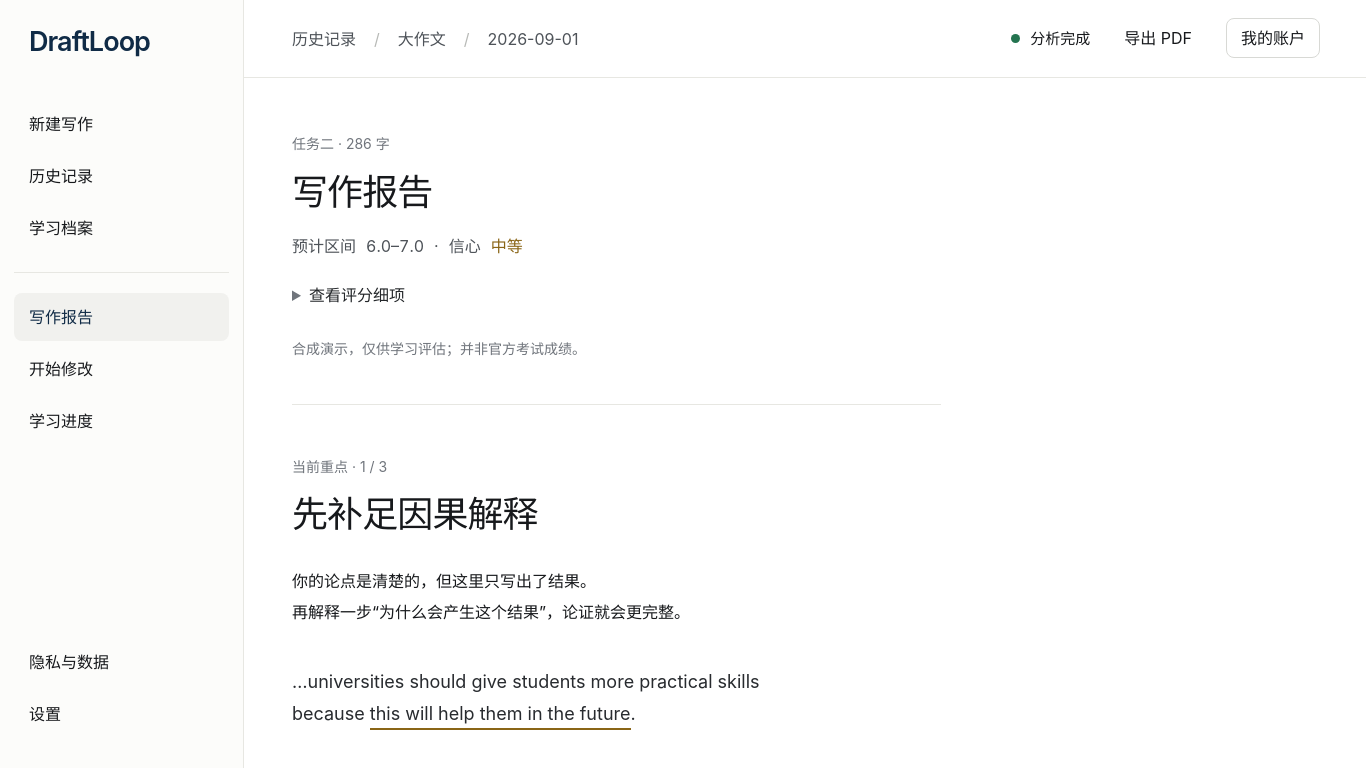
Test: DraftLoop composition › delivers the independently authorized export artifact without printing the page
Click the button "导出 PDF": [1158, 38] box left=1124, top=16, right=1192, bottom=61
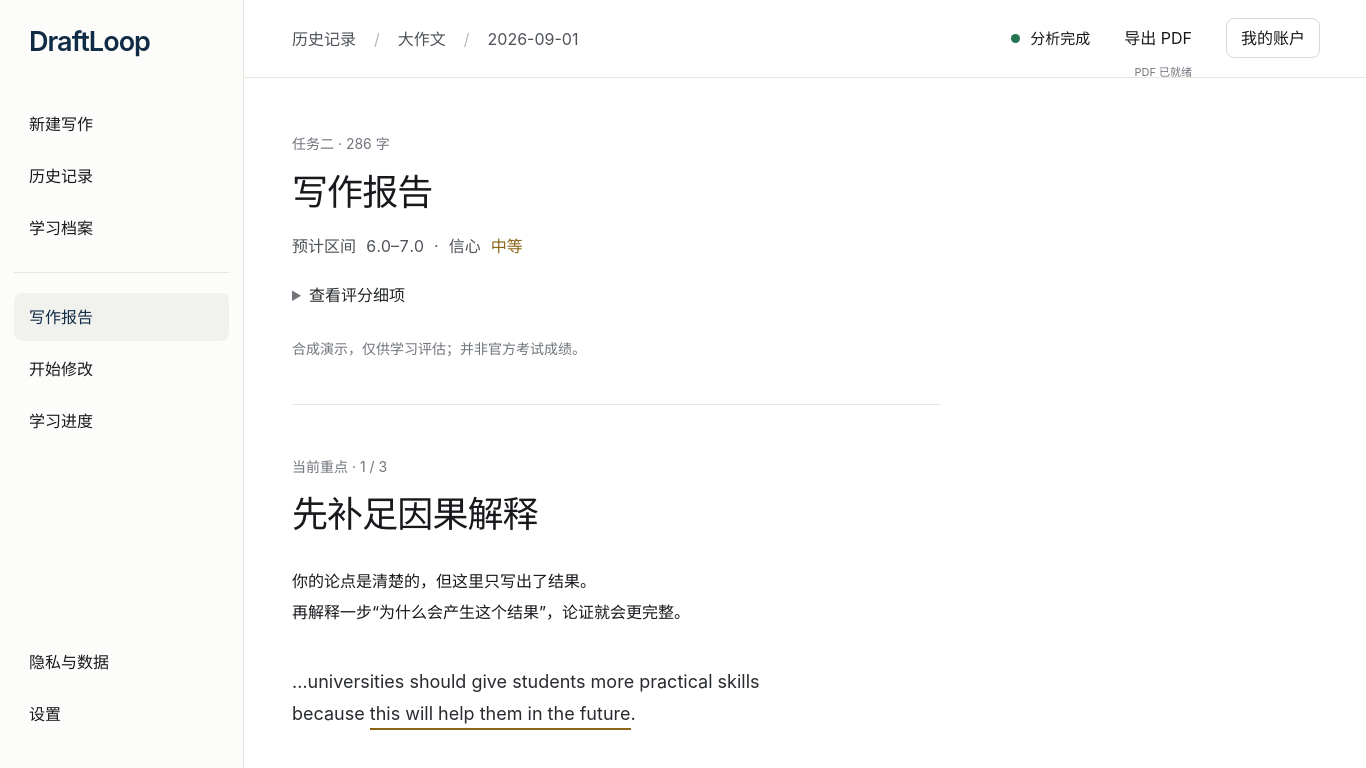
Result: the message reads "PDF 已就绪" at left=1134, top=65, right=1192, bottom=79
